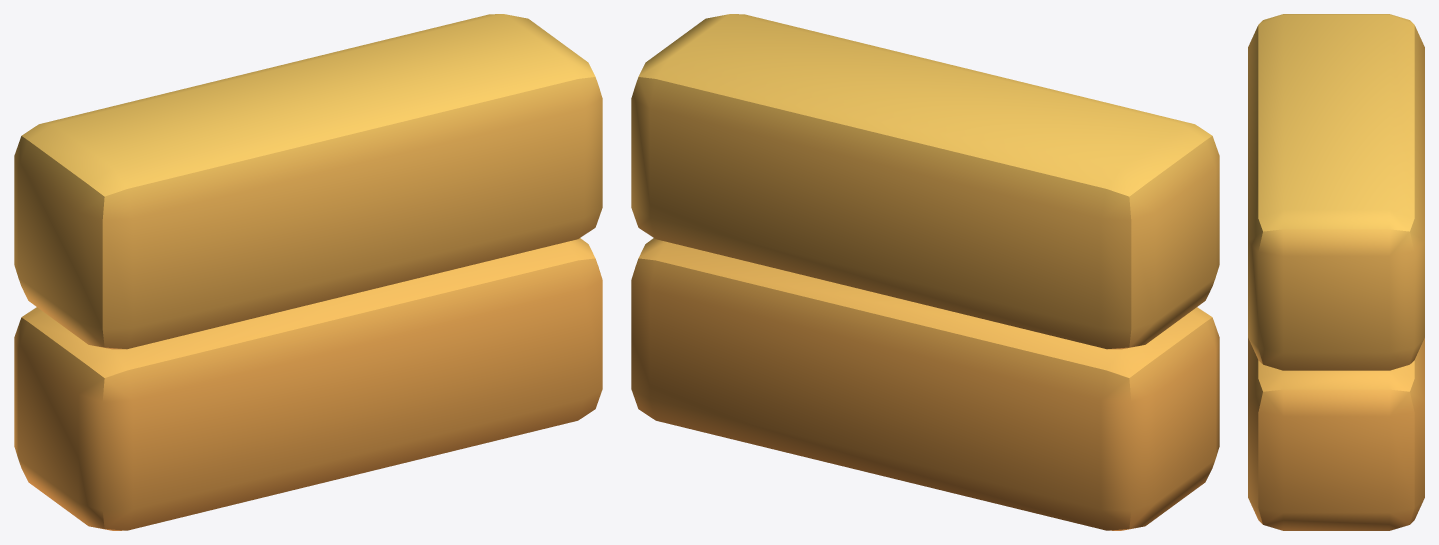
File: barrier_3x1x2_yellow.glb
3 renders of one model, left to right at view 1: azimuth 30°, elevation 25°; view 2: azimuth 150°, elevation 25°; view 3: azimuth 270°, elevation 25°, orthographic. The views are drawn at different scales.
Parts seen in each view (by area): view 1: barrier_3x1x2_yellow; view 2: barrier_3x1x2_yellow; view 3: barrier_3x1x2_yellow.
Boxes of the visible parts, x1,y1,x2,y2 form: barrier_3x1x2_yellow: [14, 14, 602, 530]; barrier_3x1x2_yellow: [631, 14, 1219, 530]; barrier_3x1x2_yellow: [1248, 14, 1424, 530].
Bounding box in the file's own units: 3 × 2 × 1.
Materials: 1 (1 with a texture image).
